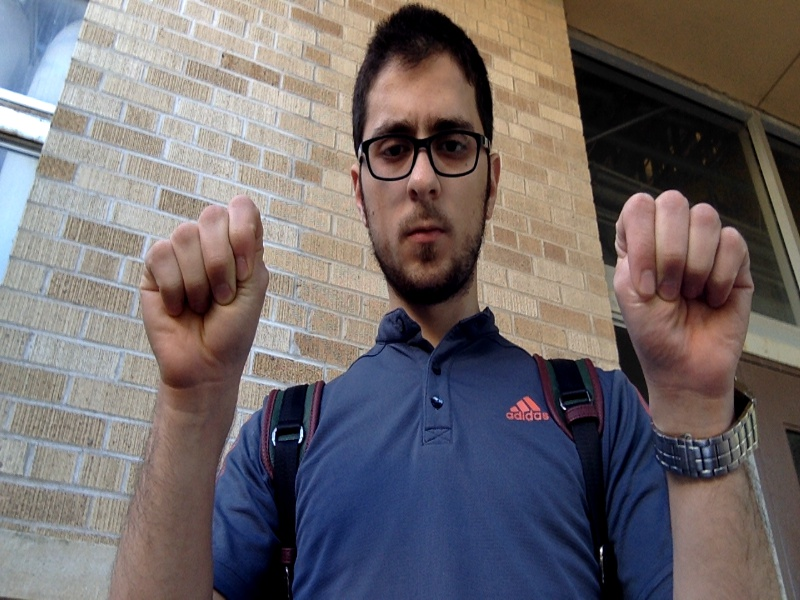0-hand: (614, 192, 751, 403), (139, 198, 269, 386)
